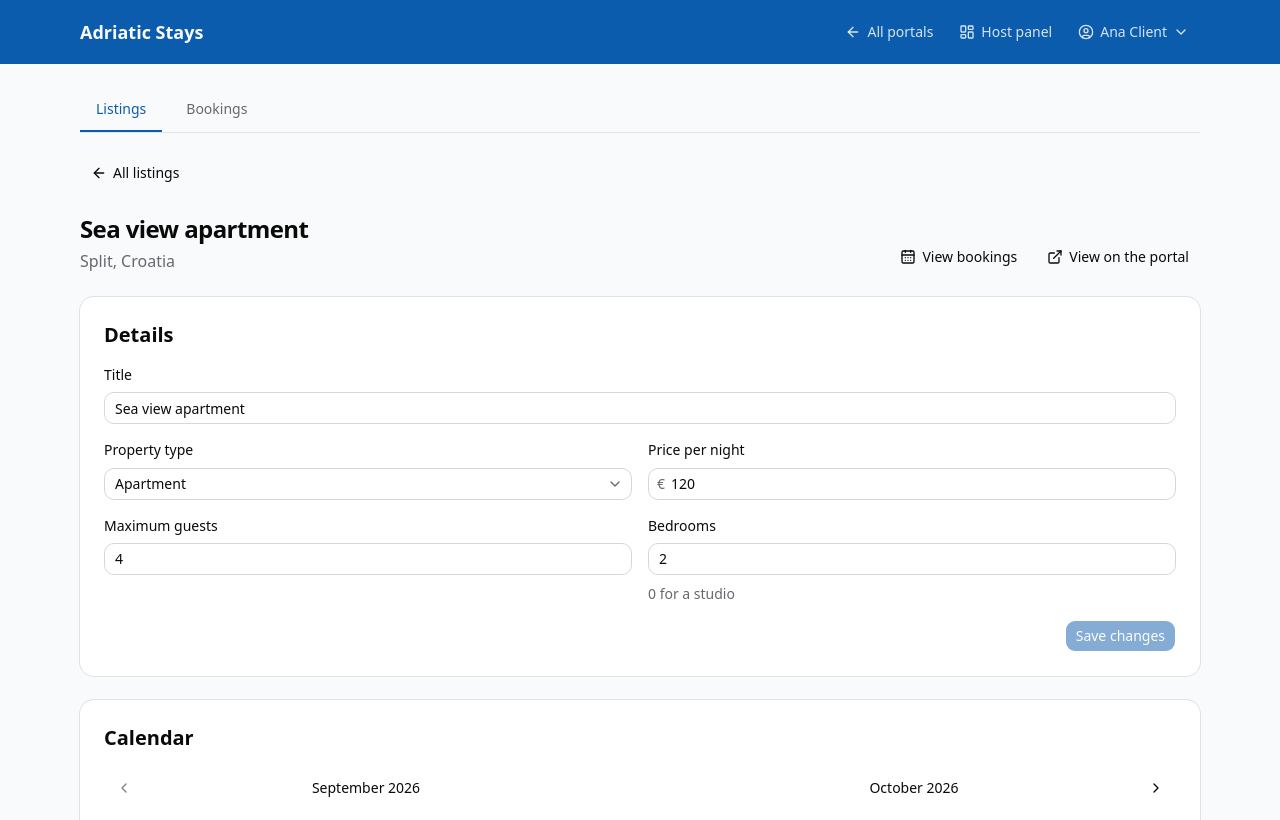
HostListingPage — editor › saves the changes with the price in cents
Replace the text in the field labelled "Price per night" with "99.50": (920, 484) 665,468 -> 1175,500
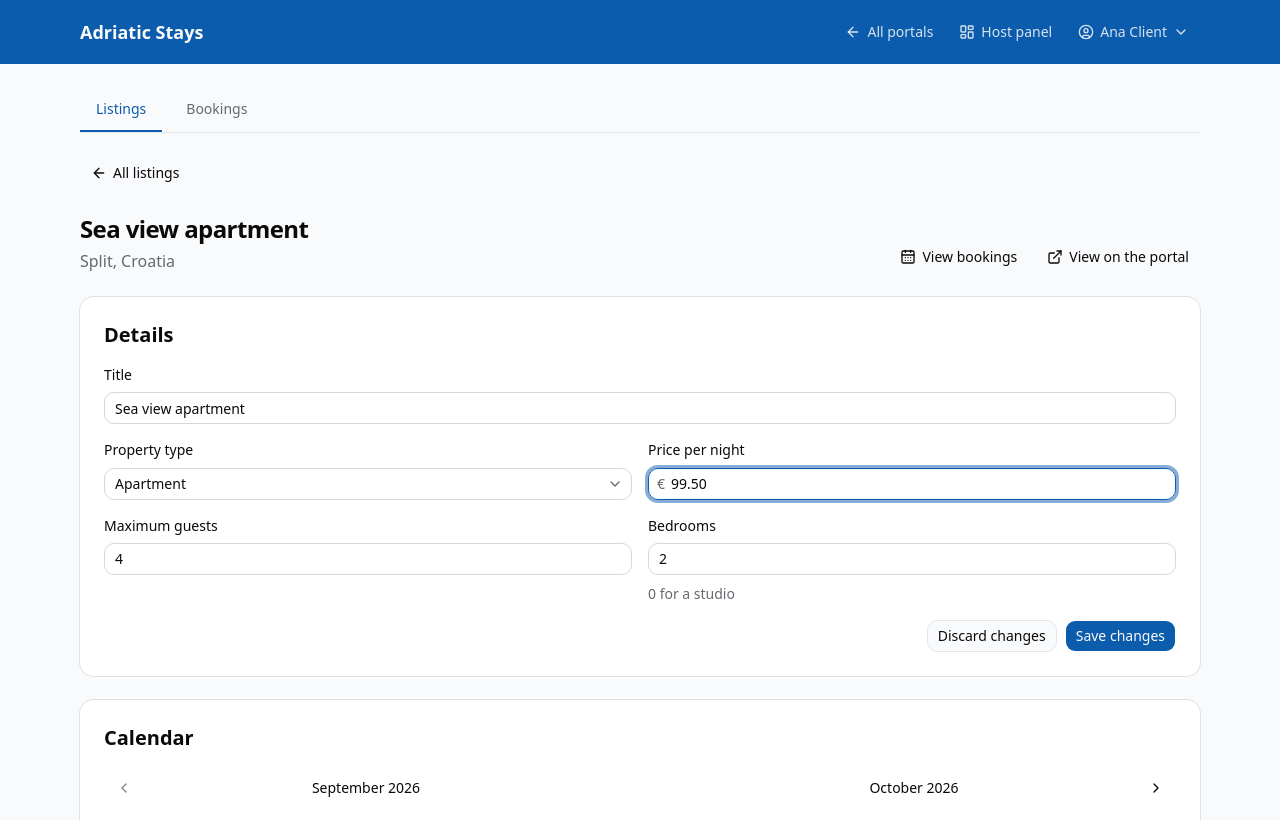
Replace the text in the number field labelled "Maximum guests" with "6": (368, 559) 104,543 -> 632,575
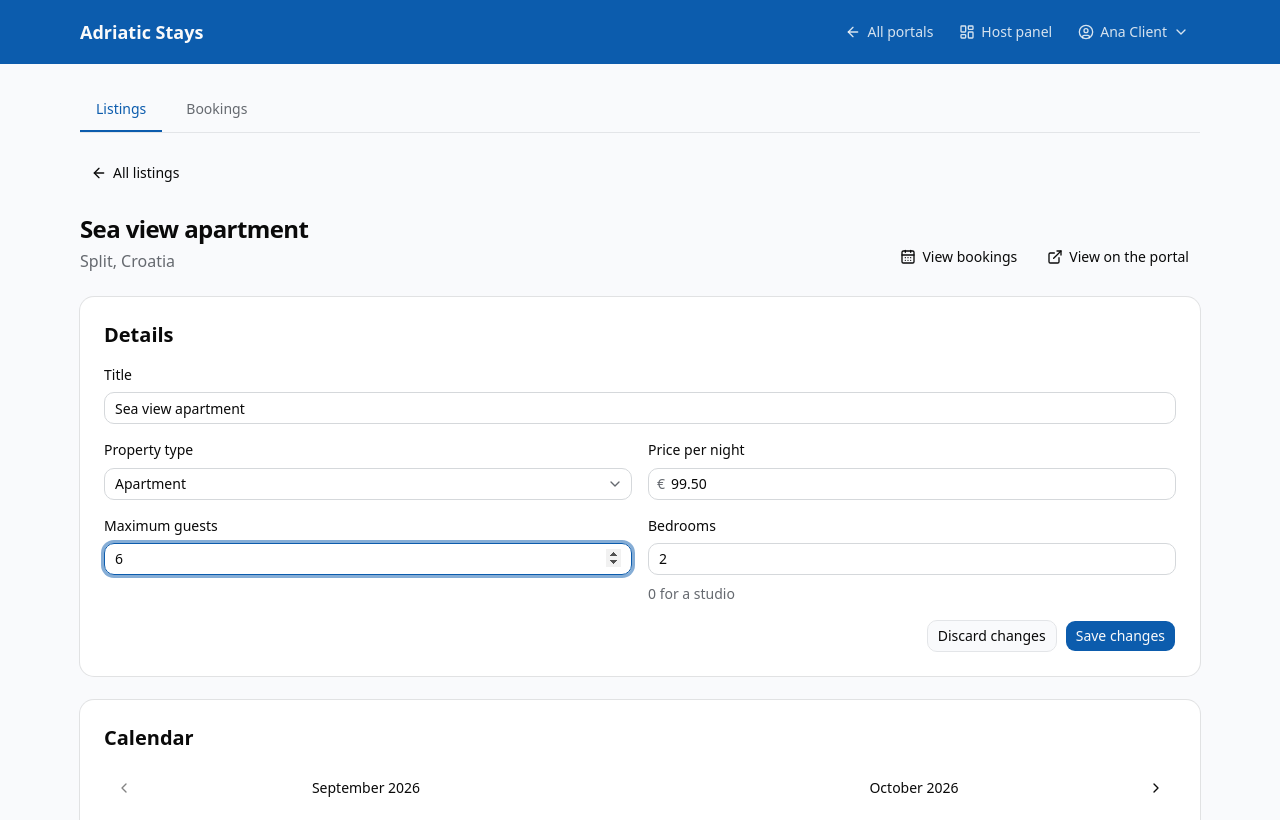
Click the button "Save changes": (1120, 636) 1065,620 -> 1176,652
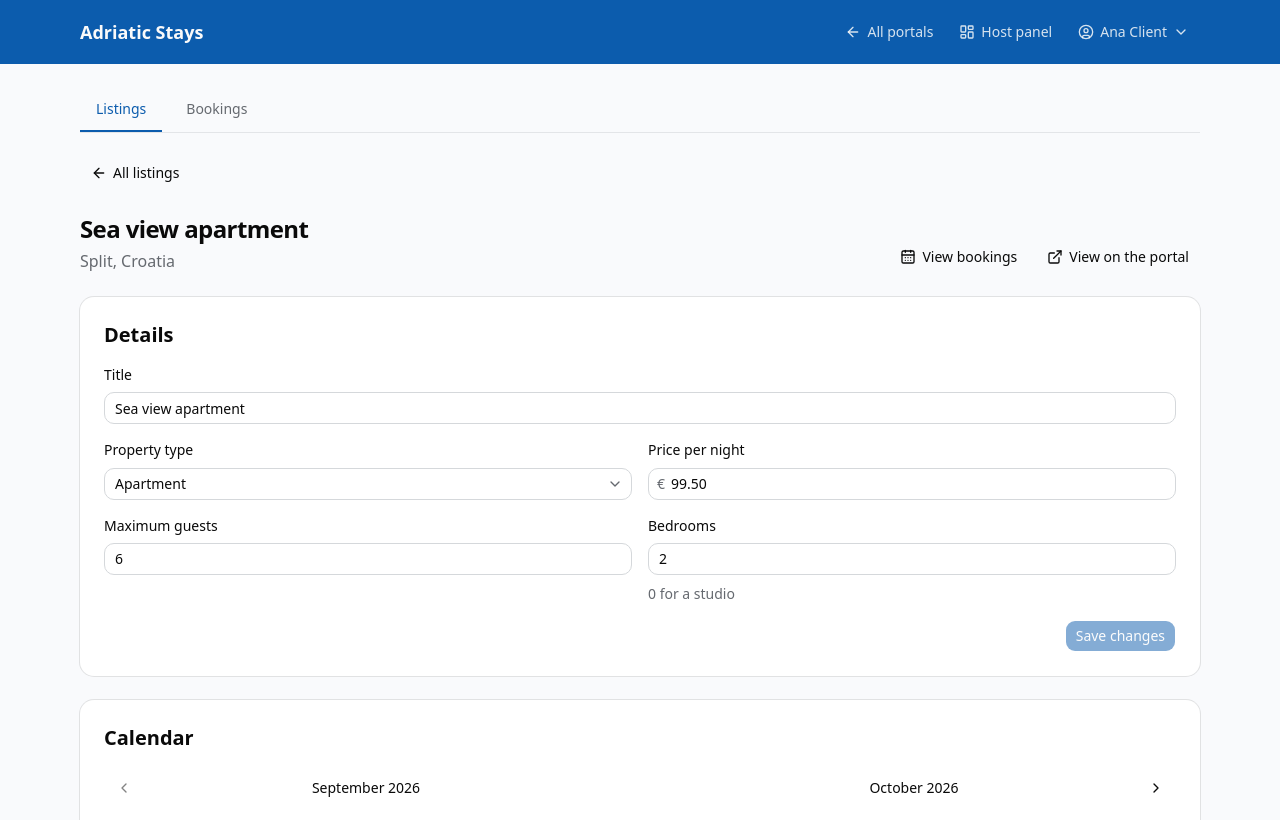
Now the button "Save changes" is disabled, box 1065,620 -> 1176,652
